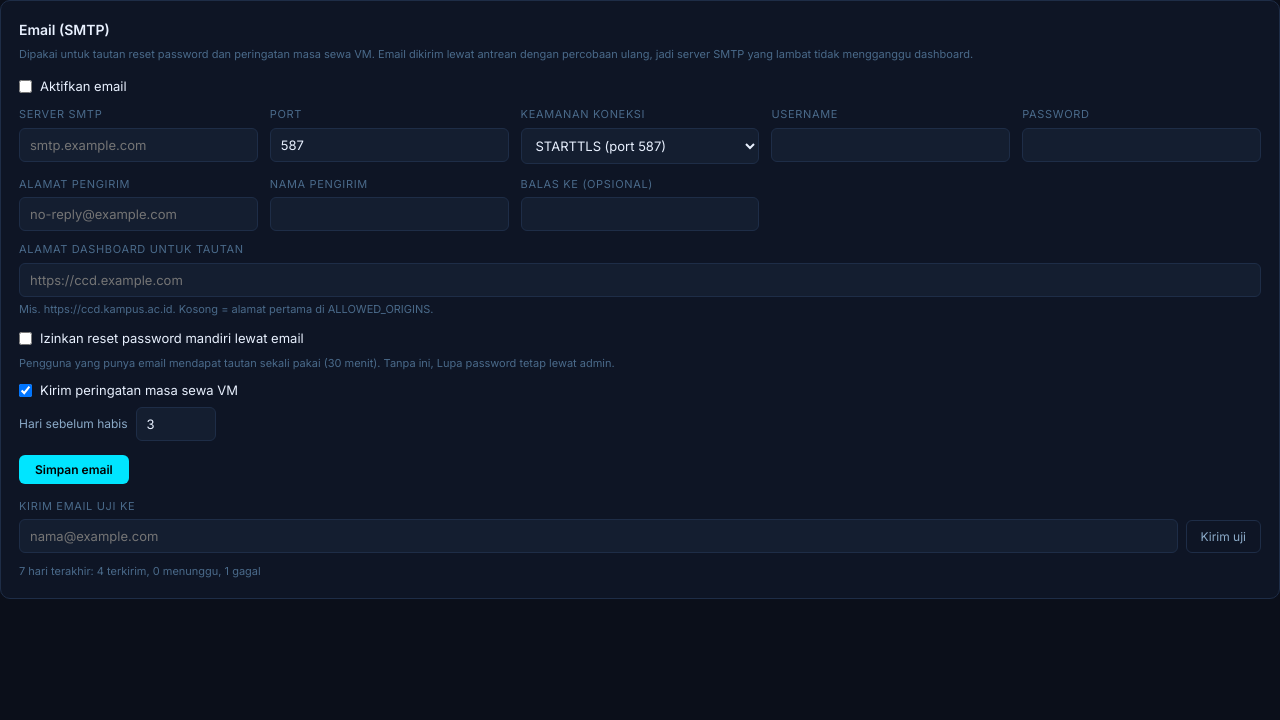
Test case: EmailSettingsCard › menyimpan pengaturan tanpa mengirim field has_password, dengan password hanya kalau diisi
This screenshot has width=1280, height=720.
Type "smtp.kampus.ac.id" into the field labelled "Server SMTP" at (138, 144), box [19,128,258,162]
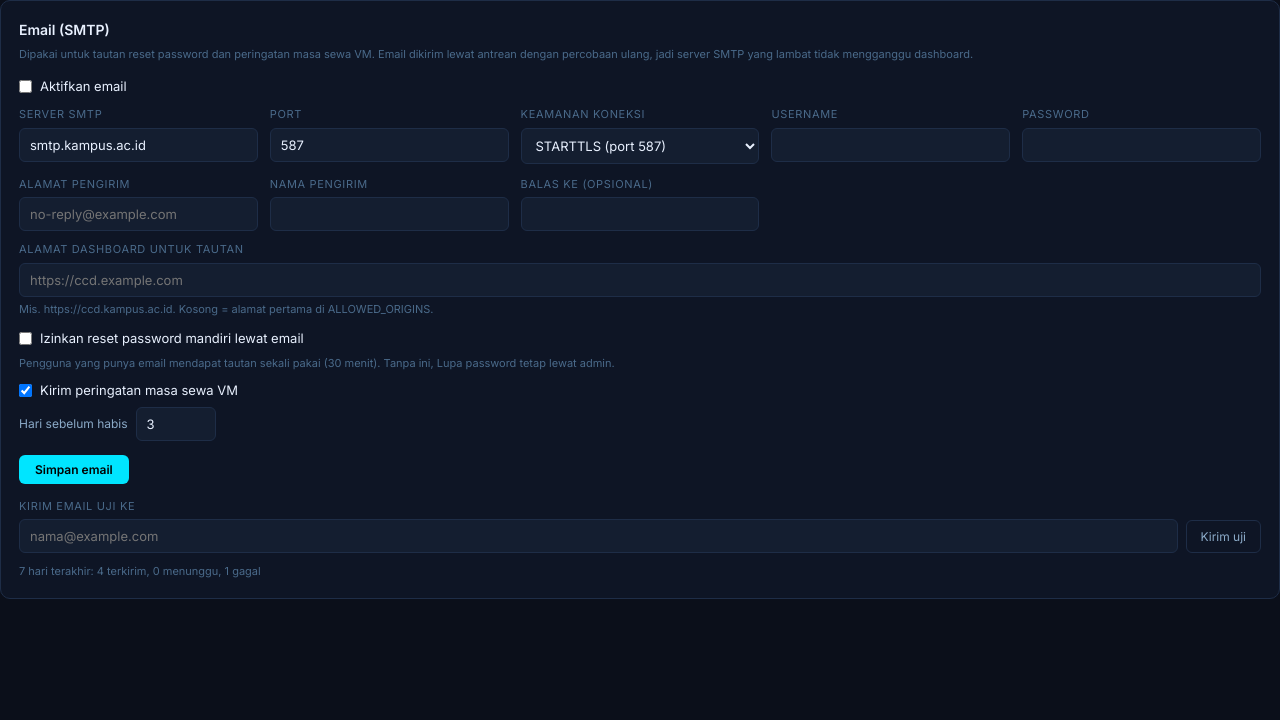
Type "rahasia" into the password field labelled "Password" at (1142, 144), box [1022,128,1261,162]
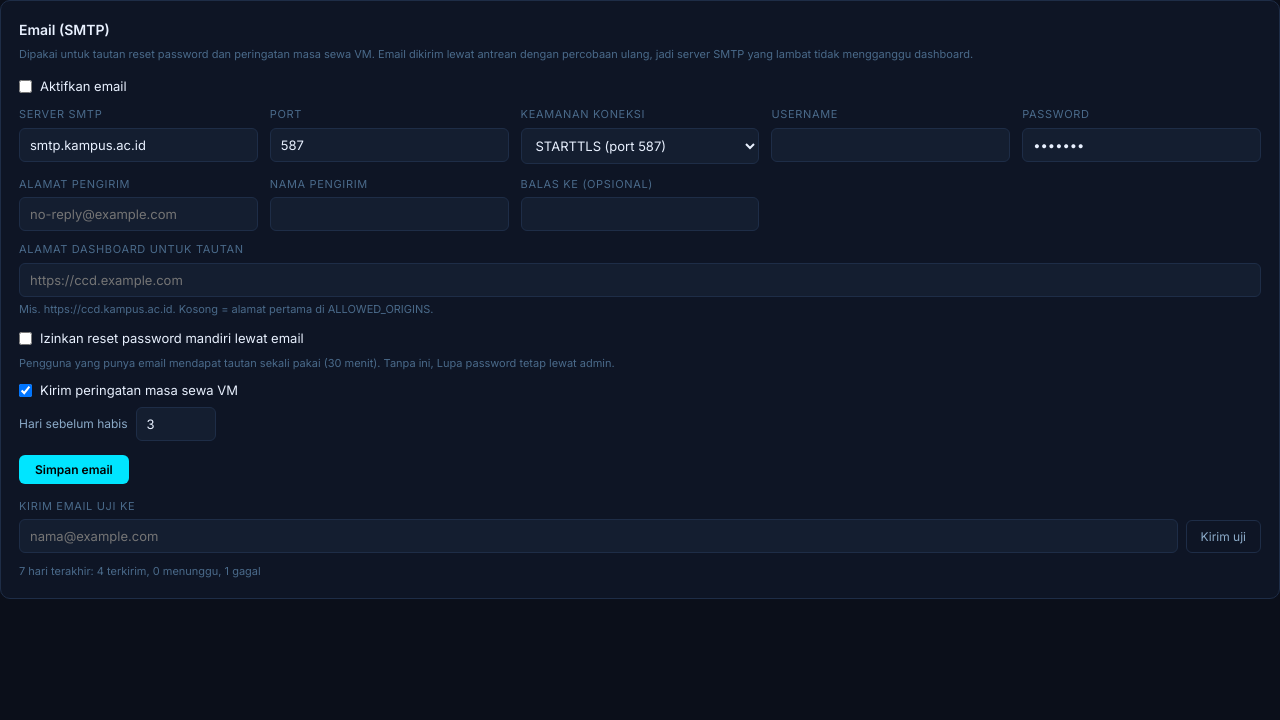
Click the checkbox labelled "Izinkan reset password mandiri lewat email" at (26, 339), box [19,332,32,345]
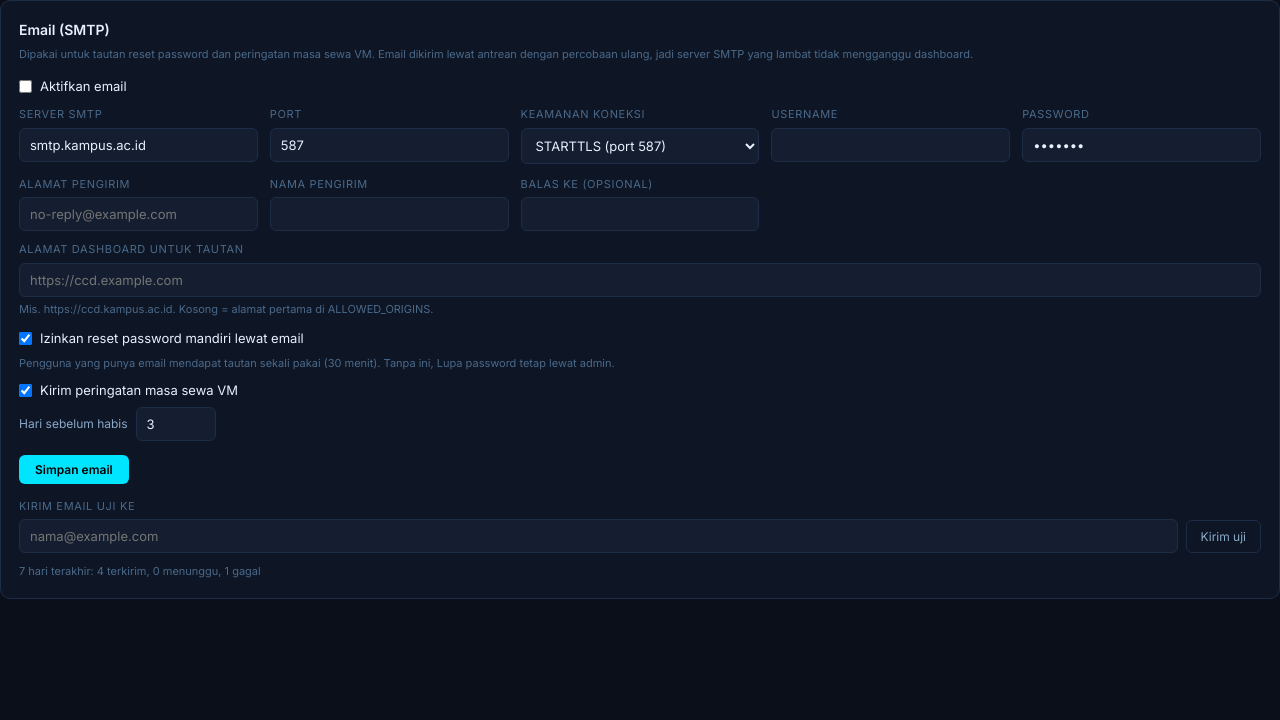
Click the button "Simpan email" at (74, 469), box [19,454,129,484]
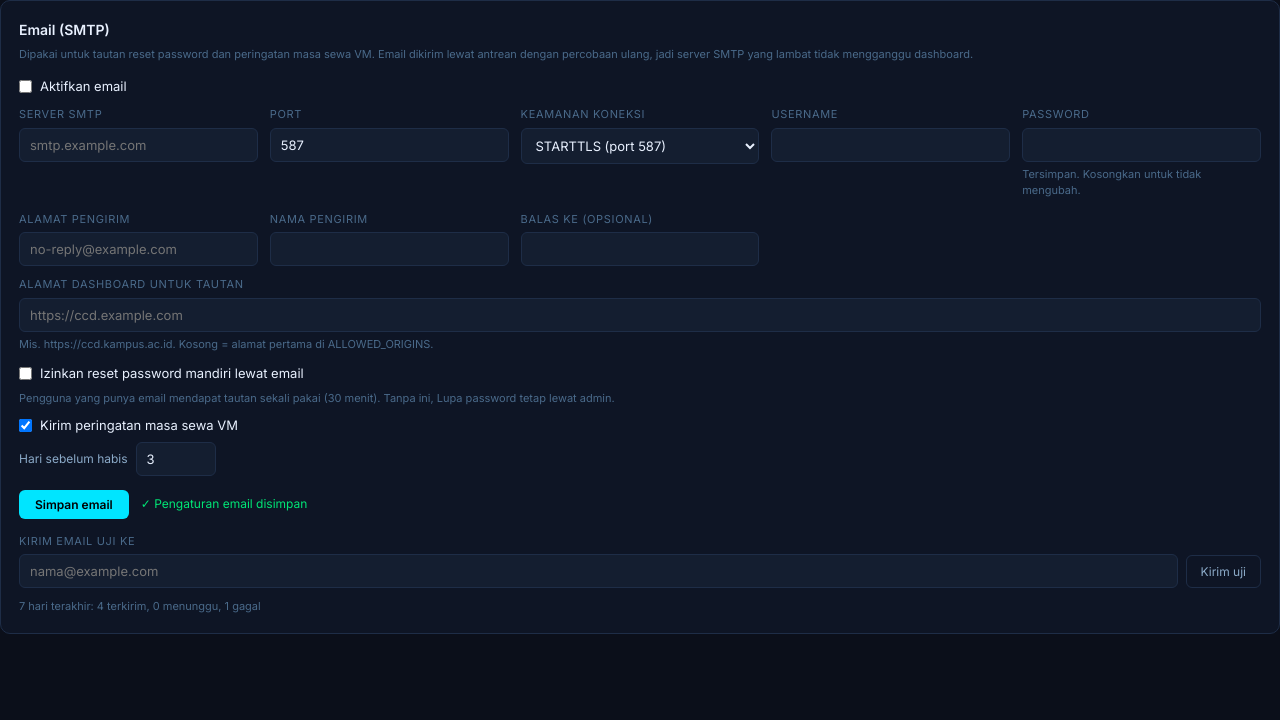
Expected: the text "7 hari terakhir: 4 terkirim, 0 menunggu, 1 gagal" is shown, [19,599,261,613]
Expected: the text "✓ Pengaturan email disimpan" is shown, [141,495,307,513]
